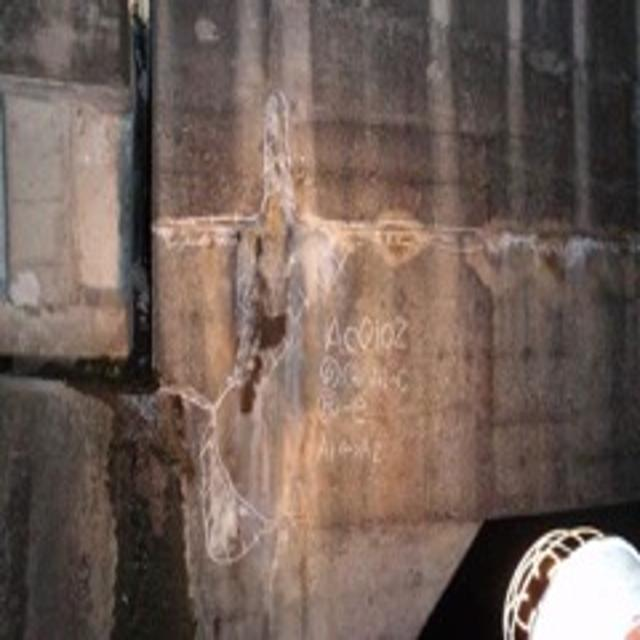freelime: (154, 72, 317, 564), (343, 189, 640, 280)
